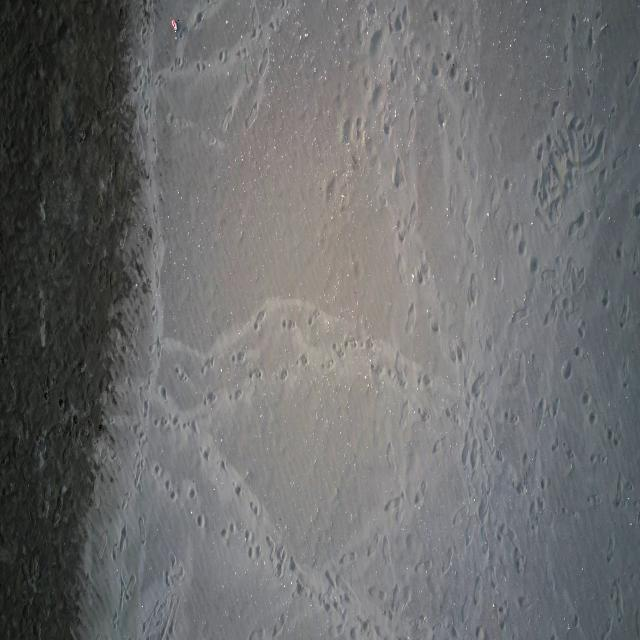tin-and-aluminum-cans: (172, 19, 179, 32)
